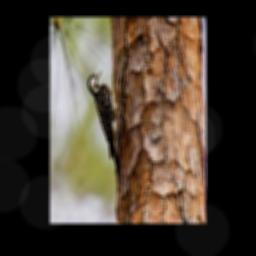Woodpecker: (87, 70, 125, 184)
